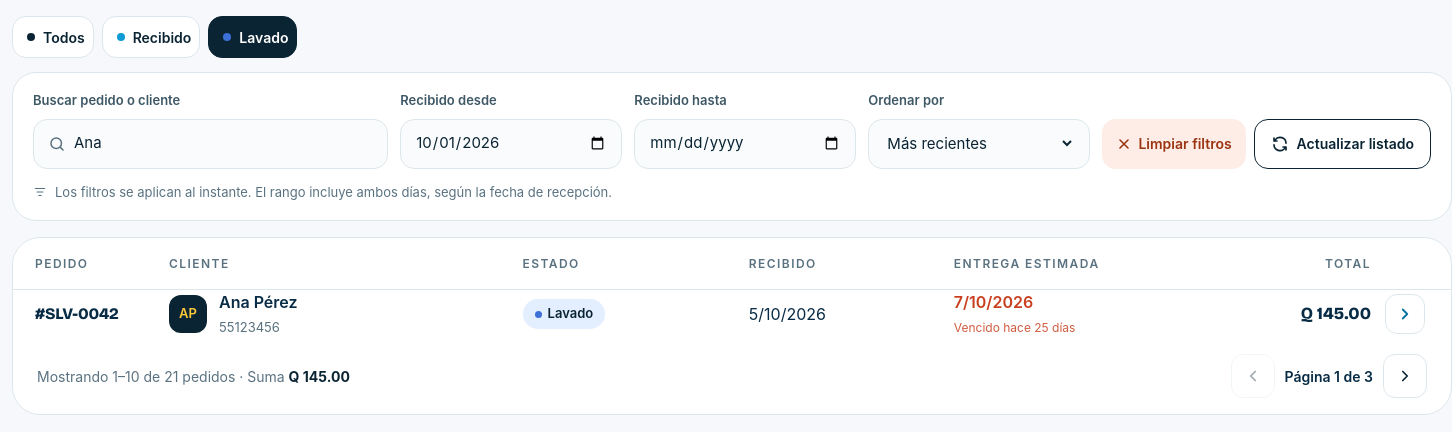
Test: listado de pedidos › pagina conservando filtros y los elimina al limpiar
Expected: the text "#SLV-0042" is shown, [35,304,119,323]
Click the button named "Página siguiente de pedidos" at (1405, 376), box [1383,354,1427,398]
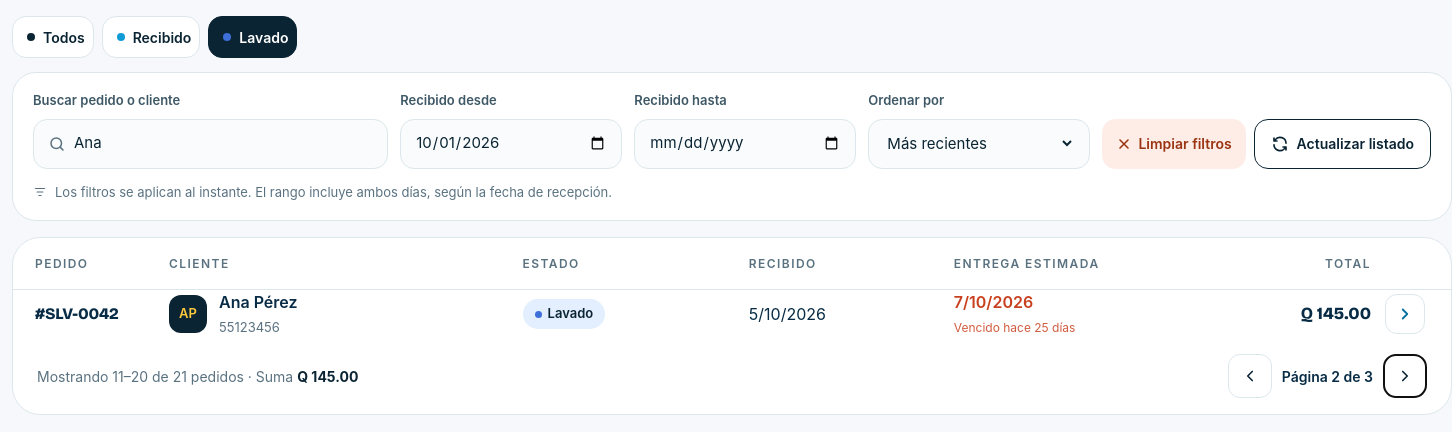
Click the button "Limpiar filtros" at (1174, 144), box [1102,118,1246,168]
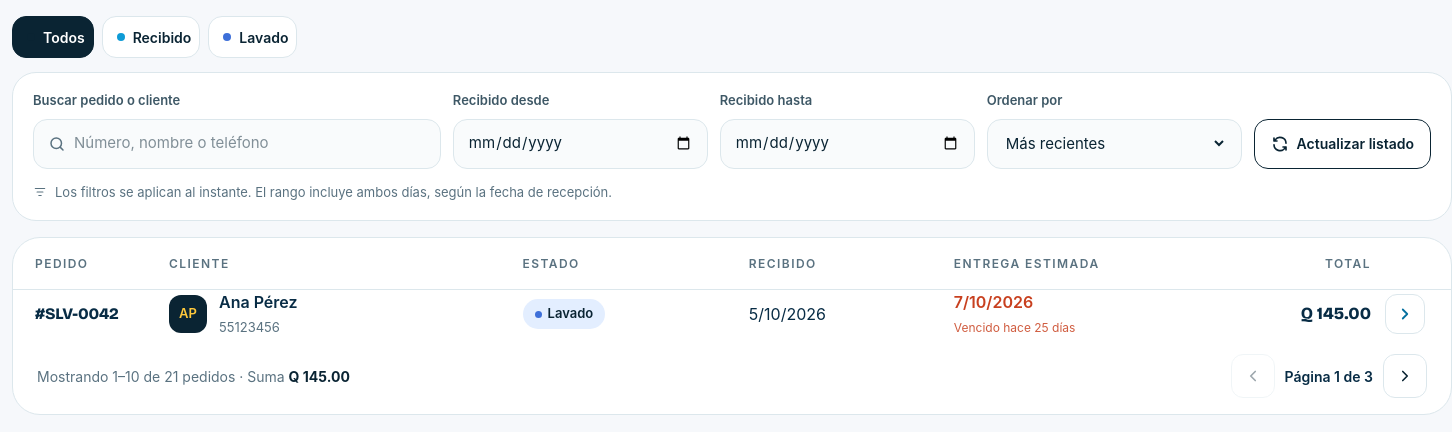
Now the search field labelled "Buscar pedido o cliente" is empty, box [74,132,426,155]
Now the date field labelled "Recibido desde" is empty, box [468,132,693,155]
